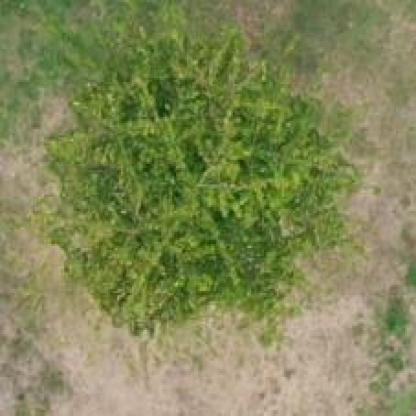Coniferous Tree: (19, 25, 358, 350)
